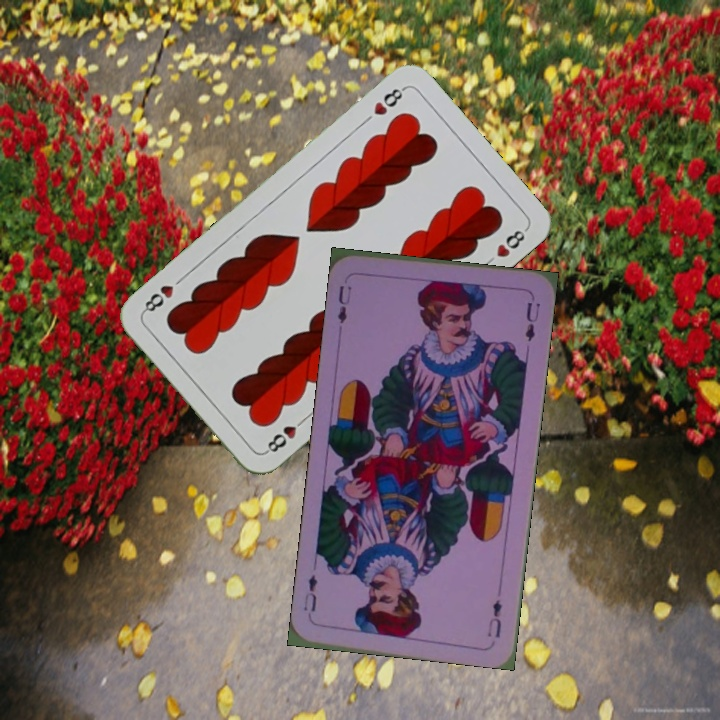EU: (483, 596, 505, 640), (334, 281, 354, 326)
H8: (261, 413, 309, 456), (369, 83, 409, 118)
